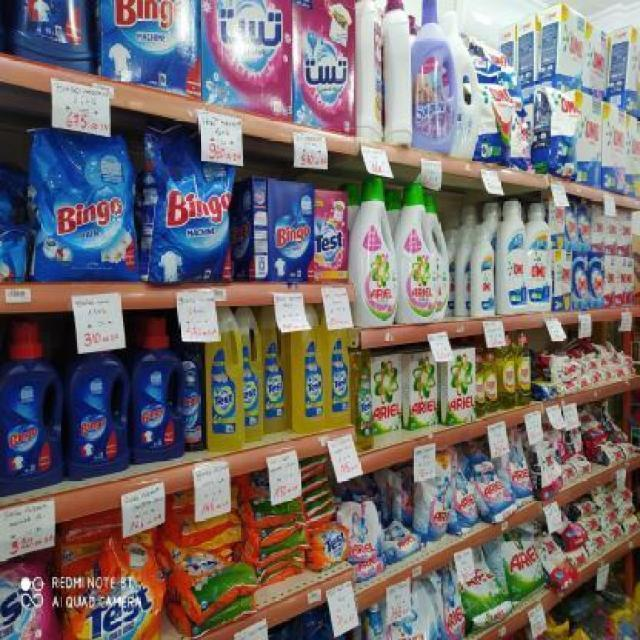Detergent: (353, 169, 398, 326), (395, 181, 436, 322), (450, 558, 504, 627), (401, 348, 440, 430), (429, 560, 466, 640), (371, 350, 406, 434), (420, 452, 451, 541), (441, 351, 476, 424), (342, 504, 382, 561), (470, 469, 508, 524), (453, 460, 479, 528), (380, 518, 422, 560), (355, 553, 390, 579)
